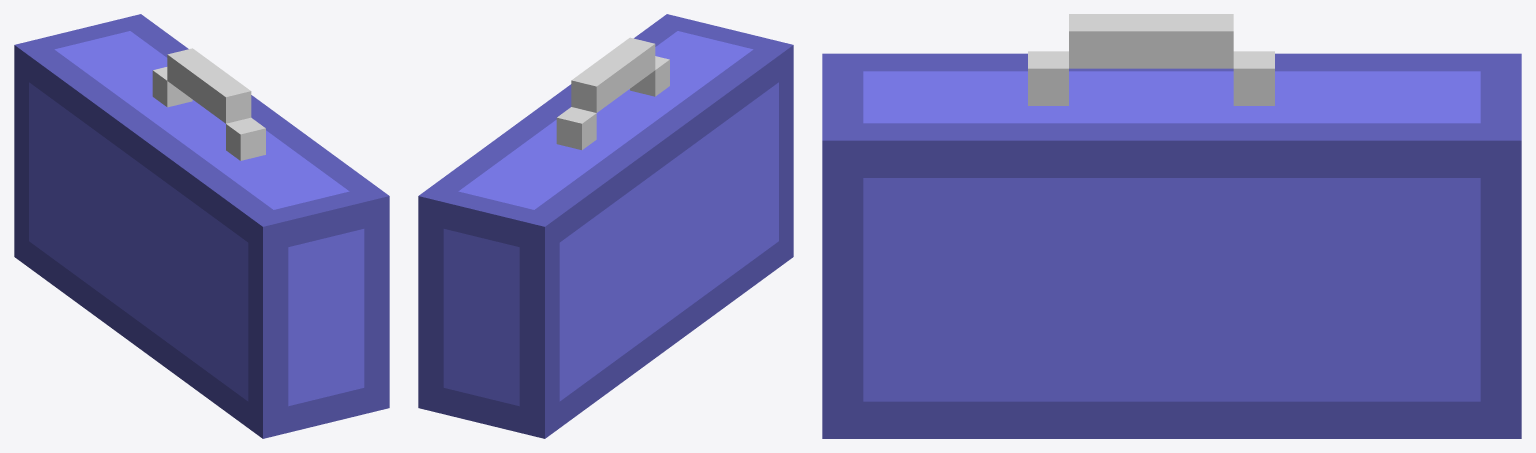
File: case.obj
3 renders of one model, left to right at view 1: azimuth 30°, elevation 25°; view 2: azimuth 150°, elevation 25°; view 3: azimuth 270°, elevation 25°, orthographic. The views are drawn at different scales.
Size of the model in its own units: 0.5 by 1 by 1.7.
1 material, 1 textured.
